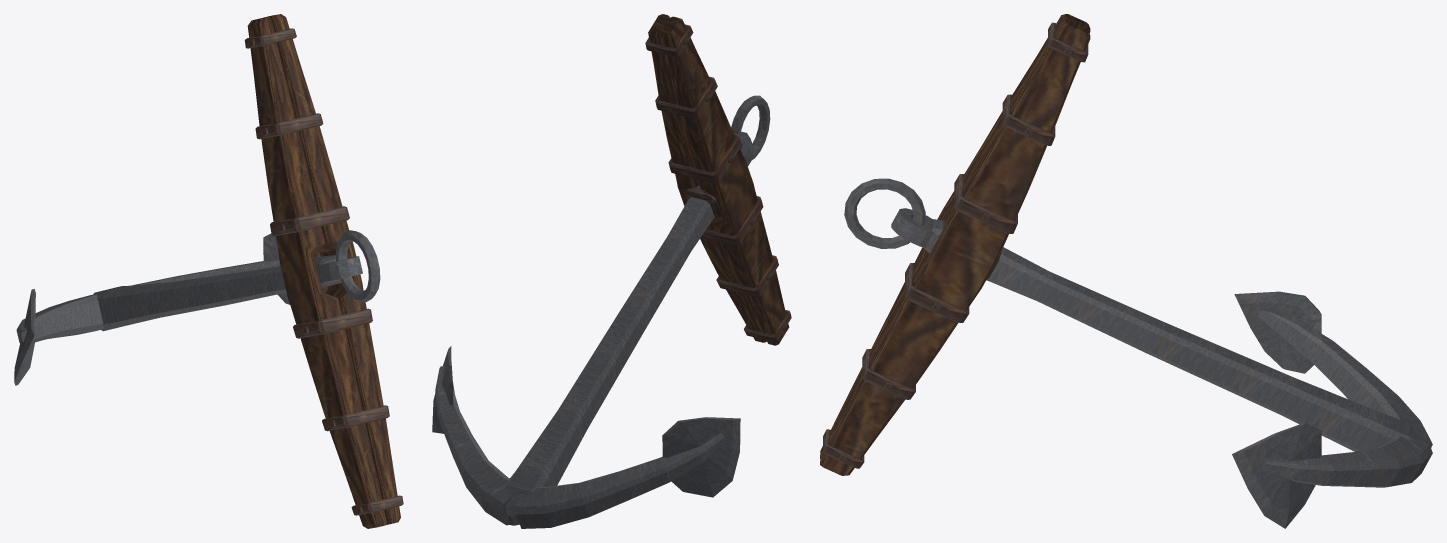
File: Ancora-Grande.glb
The picture shows the model from 3 angles, left to right: view 1: azimuth 30°, elevation 25°; view 2: azimuth 150°, elevation 25°; view 3: azimuth 270°, elevation 25°; orthographic projection. The views are drawn at different scales.
Visible parts, largest first — view 1: Âncora; view 2: Âncora; view 3: Âncora.
Boxes of the visible parts, x1,y1,x2,y2 form: Âncora: [14, 14, 403, 528]; Âncora: [432, 14, 791, 528]; Âncora: [820, 14, 1432, 528].
Size of the model in its own units: 2.98 by 3.79 by 4.64.
3 materials, 3 textured.
